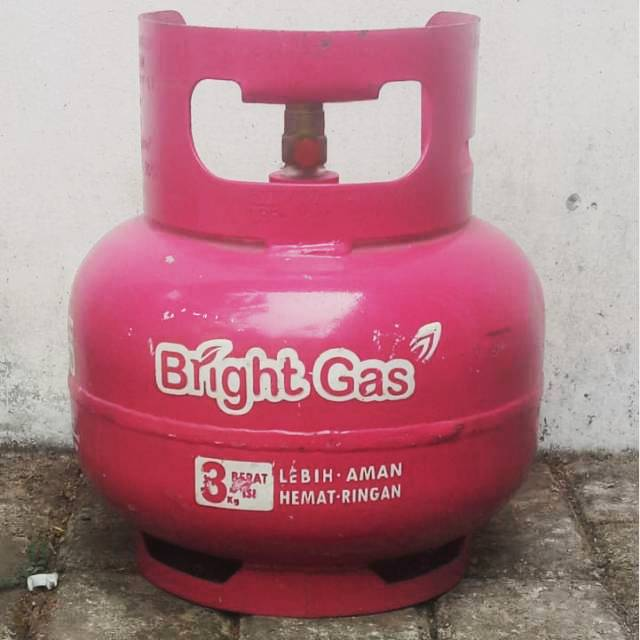bright_gas: (68, 11, 544, 620)
